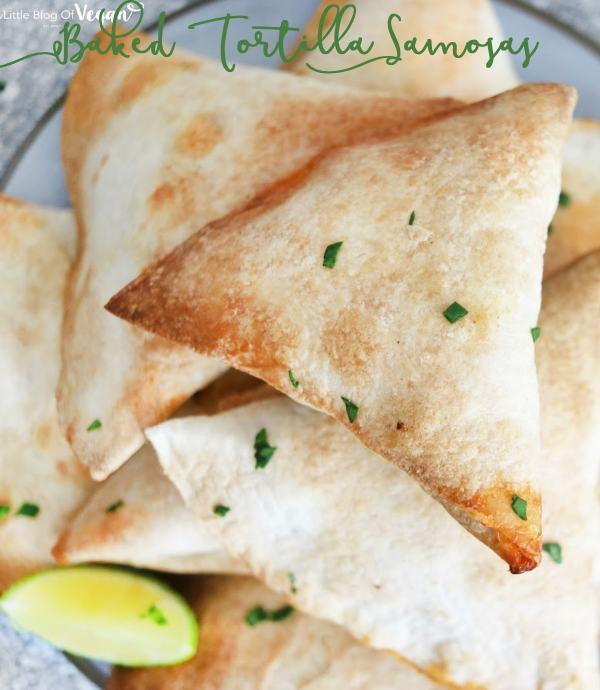samosa: (108, 85, 574, 572), (59, 51, 460, 478)
